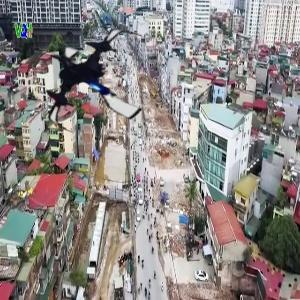drone: (37, 20, 161, 144)
